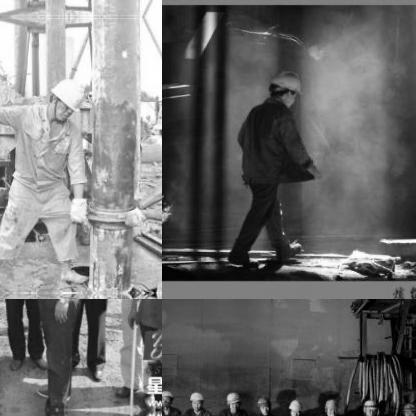Helmet: (44, 73, 88, 125), (266, 67, 302, 105), (151, 94, 161, 150), (186, 388, 202, 412), (360, 396, 379, 415), (255, 394, 271, 416), (226, 388, 240, 412), (322, 395, 338, 415), (287, 396, 303, 415), (162, 388, 173, 411), (400, 399, 415, 415)
